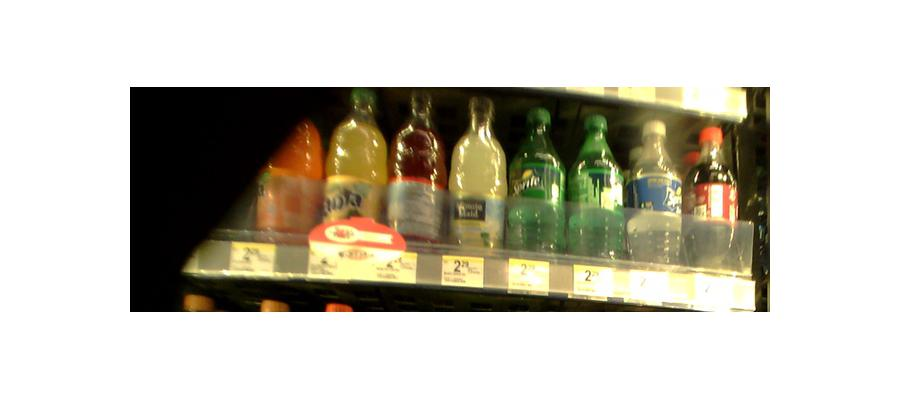bottle: (254, 99, 322, 241), (447, 95, 506, 255), (324, 89, 385, 240), (625, 119, 682, 270), (509, 105, 565, 257), (686, 123, 741, 276), (568, 113, 623, 263), (390, 88, 443, 241)
